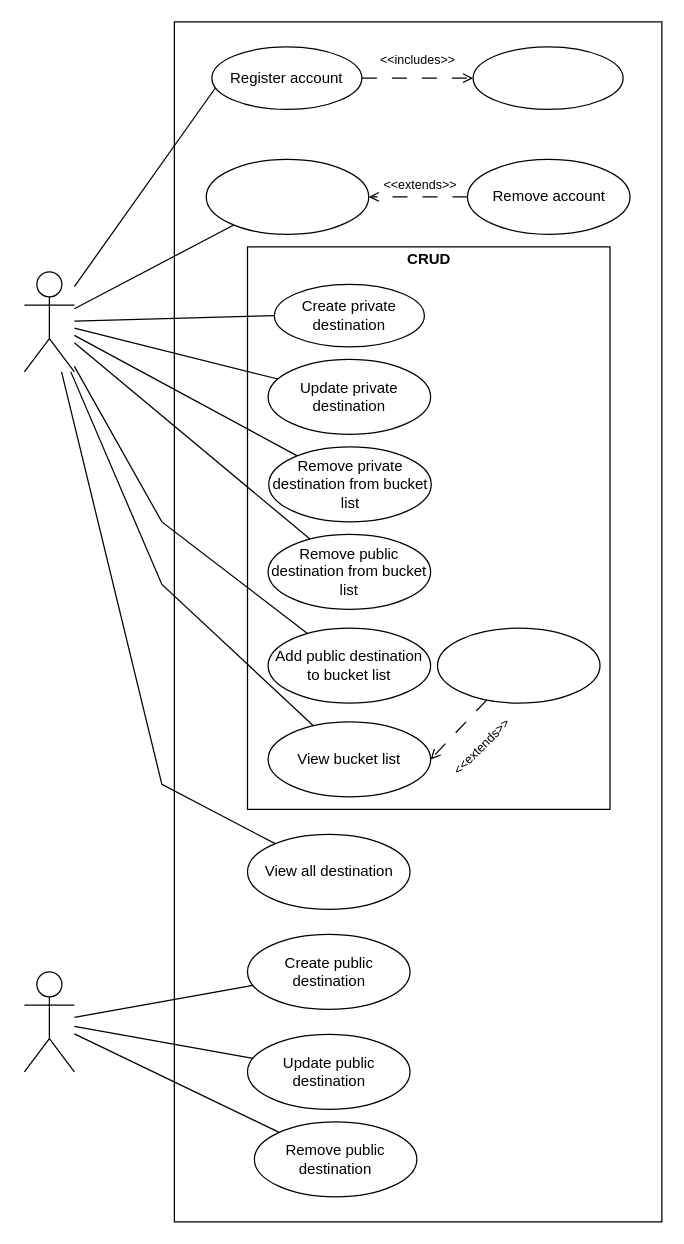
Some shapes in this 684 by 1244 pixel diagram are drawn without their labels. Each missing label, with the centre of its shape:
Admin: the point at 48,1021
Log into account: the point at 547,77
Modify account: the point at 287,196
Traveler: the point at 48,321
View bucket list filtered by attribute: the point at 518,665
